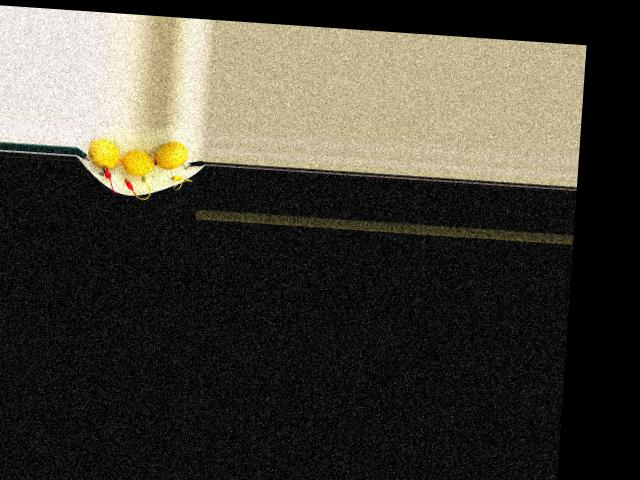lemon: (87, 141, 121, 175)
